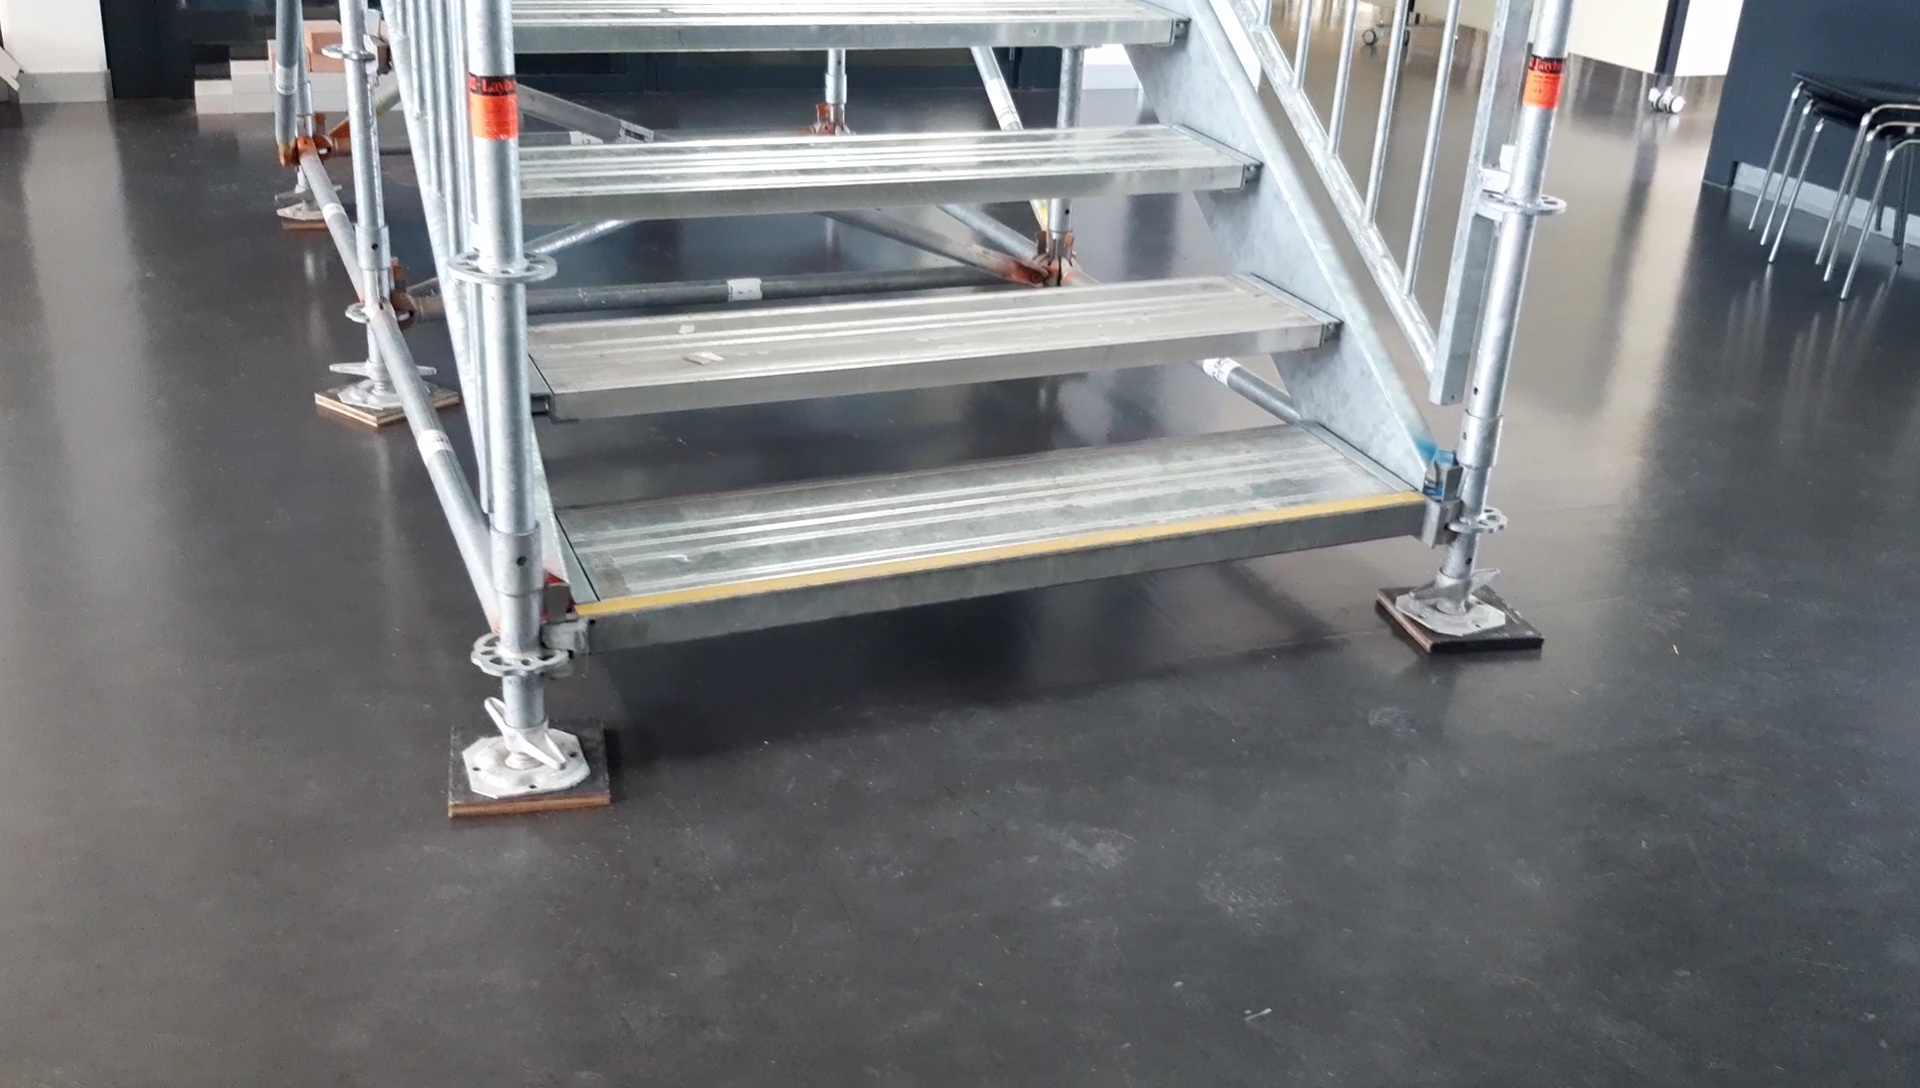edge: (584, 499, 1420, 653), (533, 320, 1346, 418), (521, 162, 1261, 218), (512, 17, 1189, 47)
stairs: (447, 5, 1543, 818)
